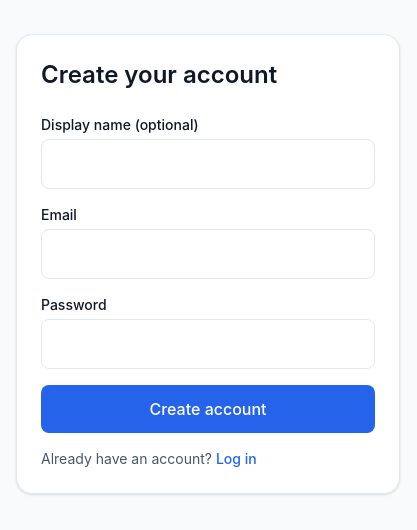
RegisterPage › shows a friendly message when the email is already registered
Type "user@example.com" into the field labelled "Email" at (208, 254), box [41, 229, 375, 279]
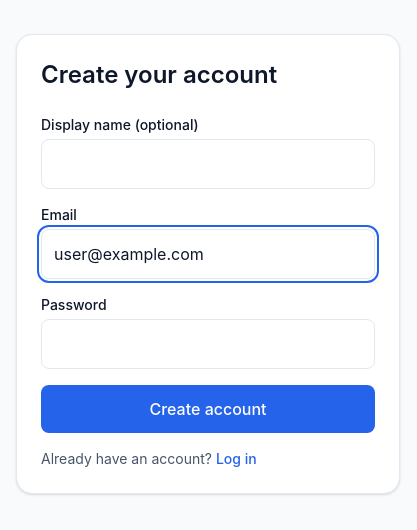
Type "Sup3rSecret" into the password field labelled "Password" at (208, 344), box [41, 319, 375, 369]
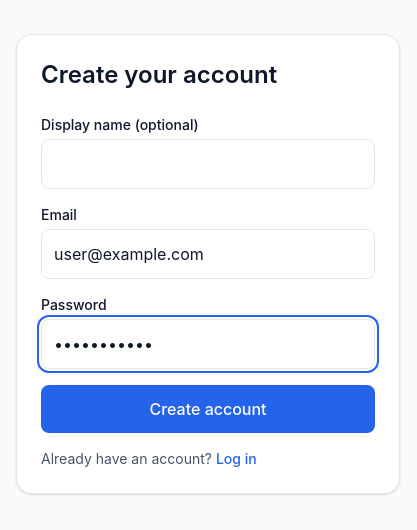
Click the button "Create account" at (208, 409), box [41, 385, 375, 433]
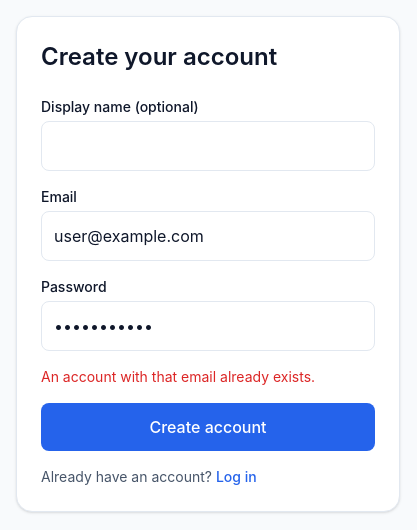
Now the text "An account with that email already exists." is shown, box [41, 368, 315, 385]
